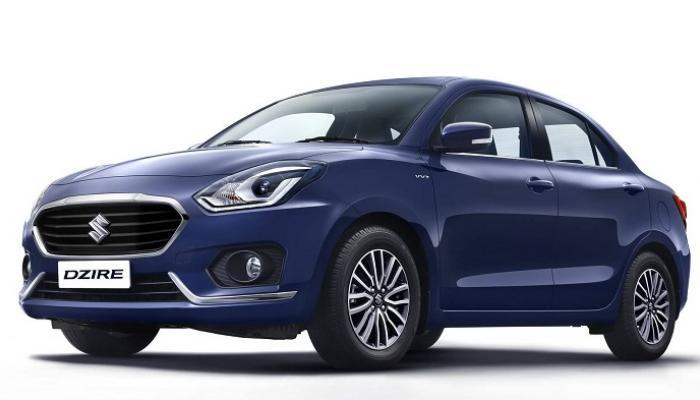suzuki: (84, 209, 117, 245)
